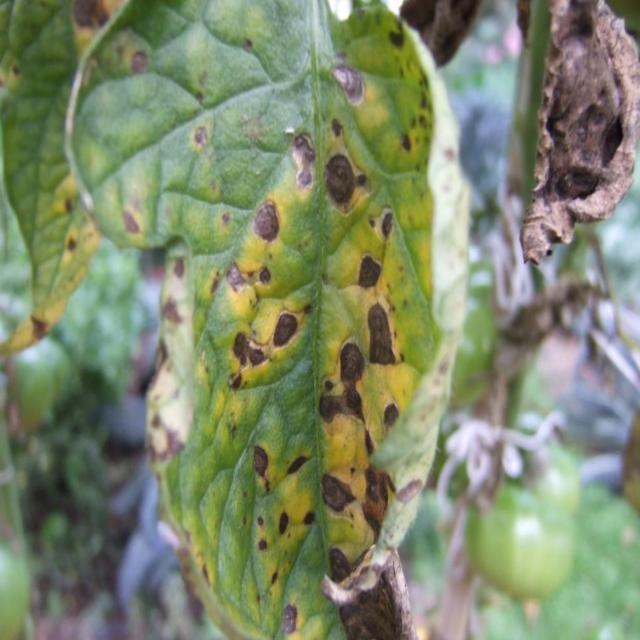Early_blight: (519, 1, 638, 265), (323, 538, 416, 640), (361, 397, 421, 538), (221, 301, 317, 389), (399, 1, 486, 68), (319, 334, 366, 430), (323, 146, 370, 217), (362, 298, 407, 368), (144, 409, 188, 464), (219, 255, 276, 294), (68, 1, 115, 48), (286, 126, 318, 190), (327, 58, 368, 106), (318, 470, 358, 515), (248, 197, 286, 244), (352, 248, 387, 293), (366, 207, 399, 247), (254, 444, 276, 496), (119, 197, 147, 237), (24, 307, 53, 344), (277, 600, 302, 635), (161, 293, 186, 327), (190, 118, 213, 152), (284, 450, 310, 477), (387, 15, 408, 48), (127, 46, 152, 73), (56, 190, 78, 219), (168, 252, 190, 281), (62, 235, 85, 256), (275, 509, 291, 539), (327, 115, 346, 138), (397, 130, 415, 154), (300, 507, 317, 532), (257, 537, 271, 552), (256, 515, 266, 528)
